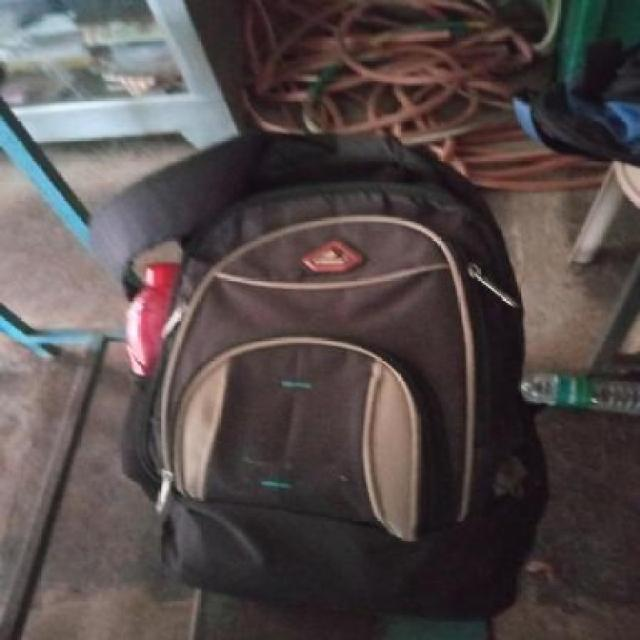backpack: (83, 122, 557, 623)
